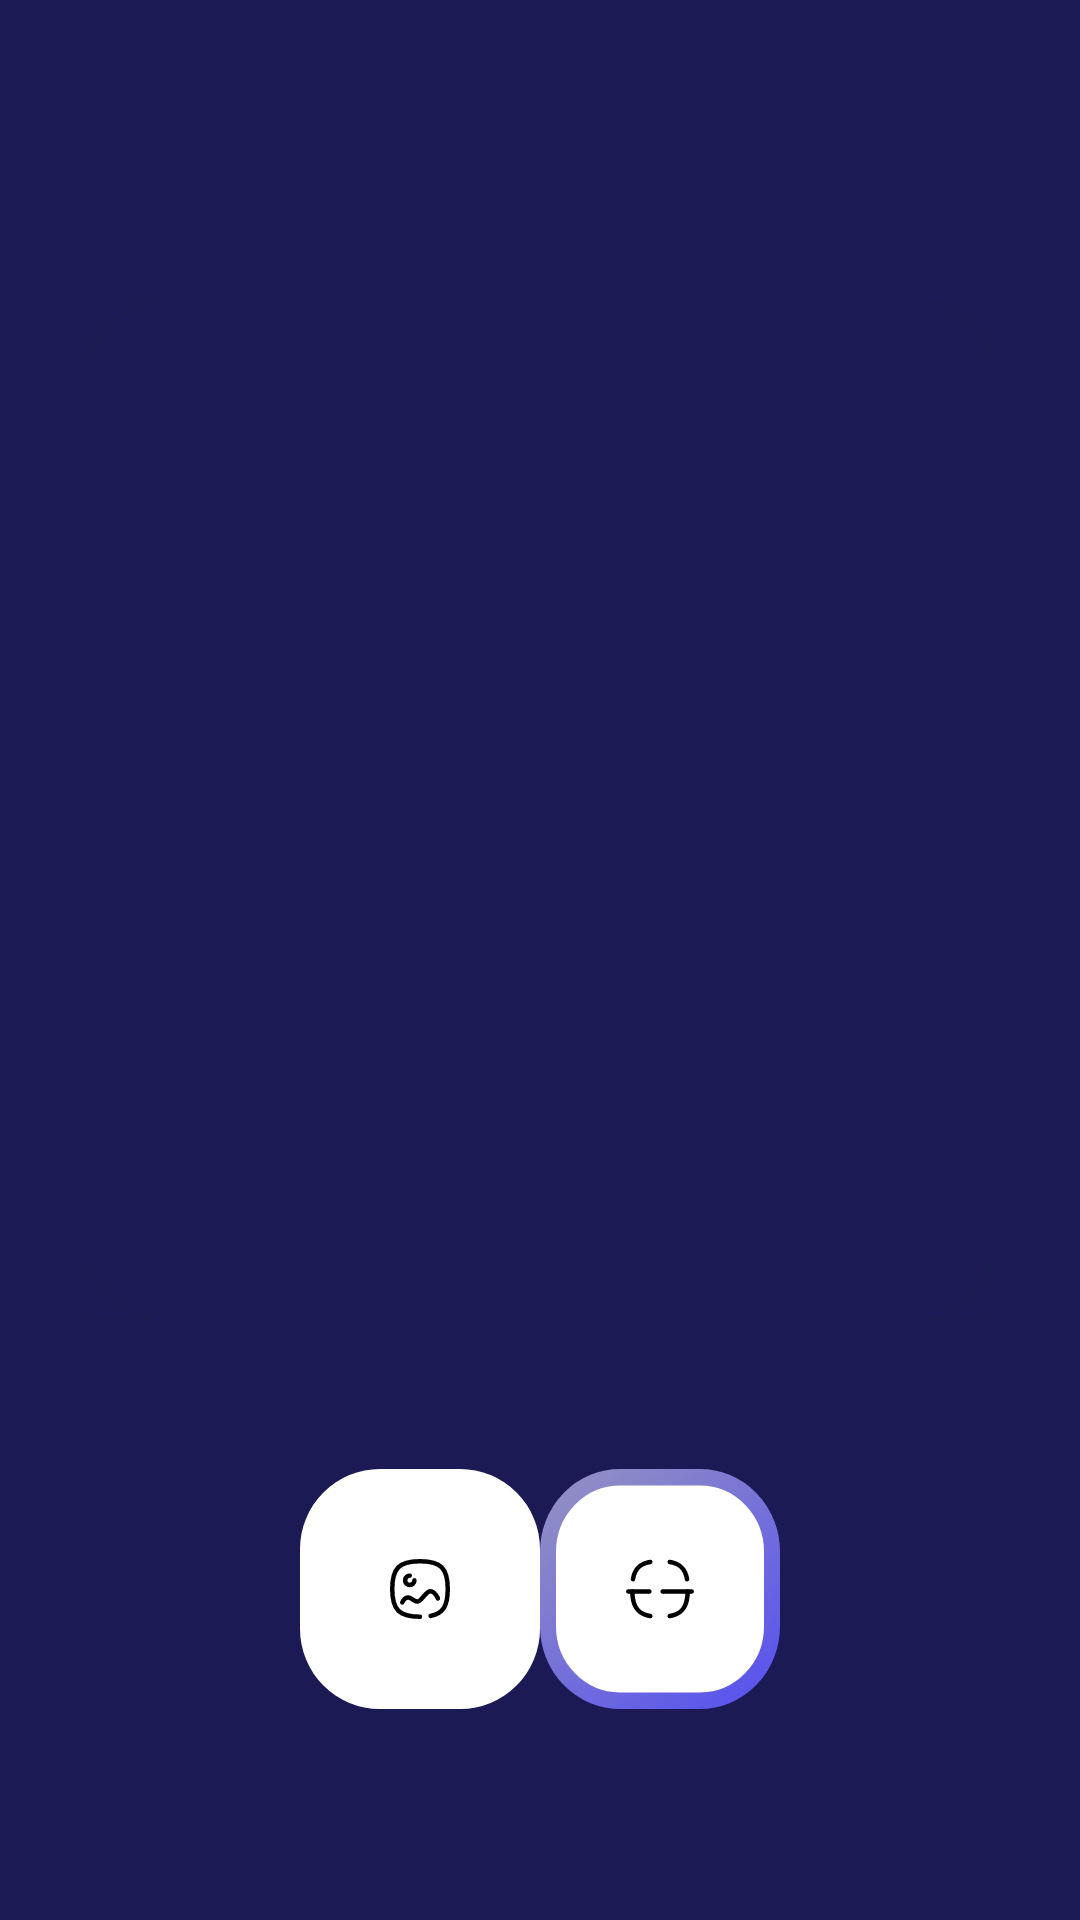

Icon bounding boxes for this 1080 x 1920 phone screenshot, format bbox(x1, y1, x2, y2):
Galeri: bbox(300, 1469, 540, 1709)
Pindai: bbox(540, 1469, 780, 1709)
